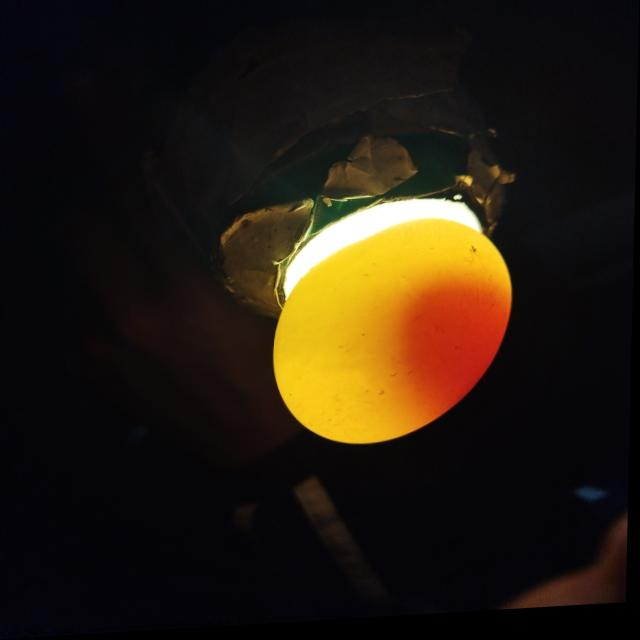Gema Quebrada: (394, 285, 513, 432)
